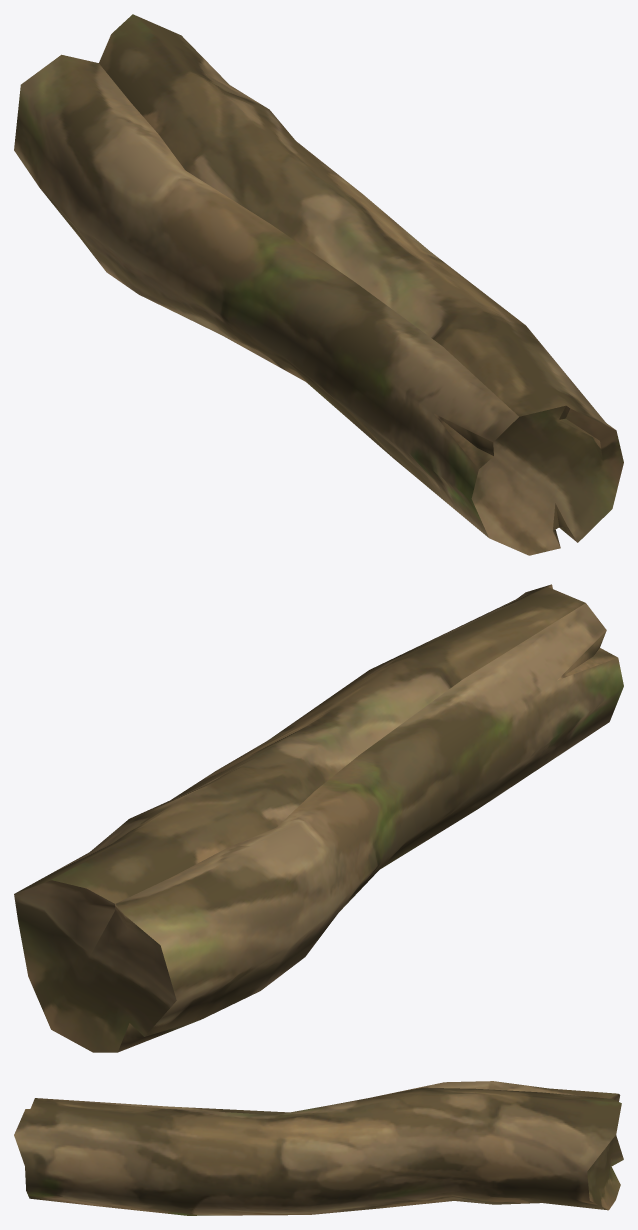
File: P_OakFallen2.obj
3 views of the same model, one above another, from view 1: azimuth 30°, elevation 25°; view 2: azimuth 150°, elevation 25°; view 3: azimuth 270°, elevation 25° (orthographic). The views are drawn at different scales.
Bounding box in the file's own units: 1.82 × 1.52 × 7.1.
